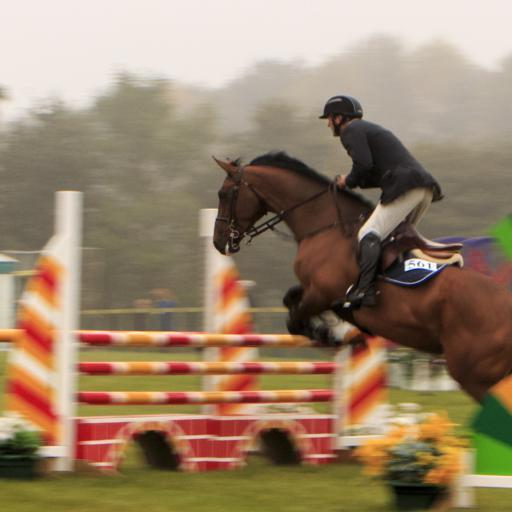horse: (212, 148, 512, 406)
